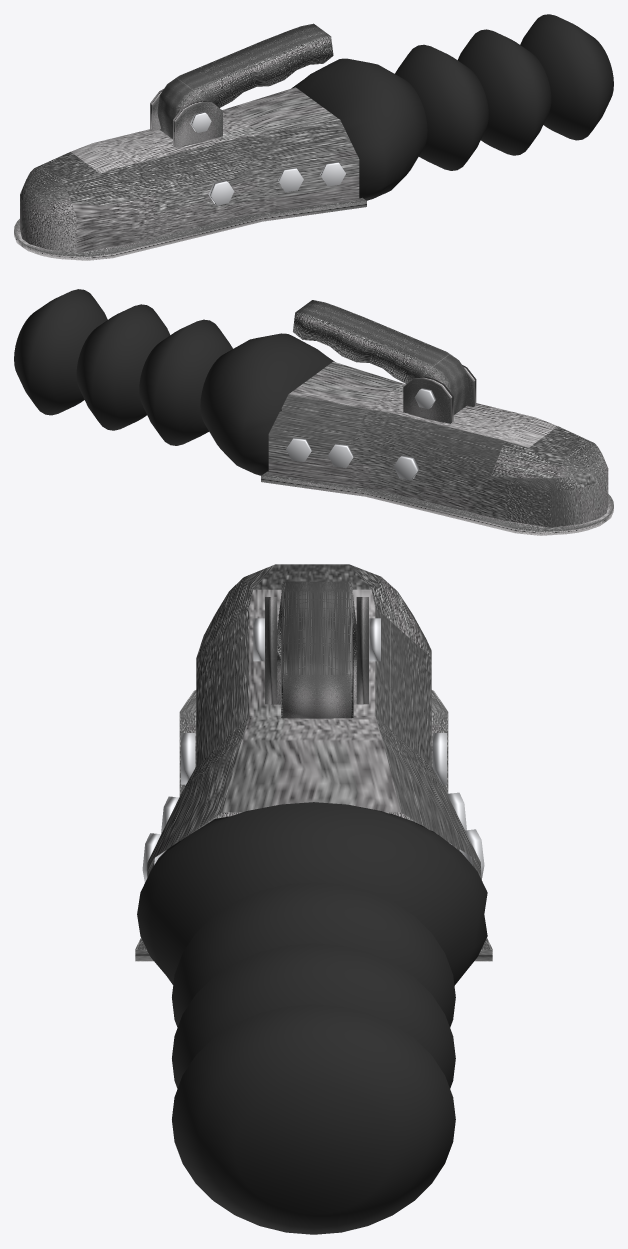
Rendered from coupler3.0.glb.
3 views of the same model, one above another, from view 1: azimuth 30°, elevation 25°; view 2: azimuth 150°, elevation 25°; view 3: azimuth 270°, elevation 25° (orthographic). The views are drawn at different scales.
Parts seen in each view (by area): view 1: Cube.007, Cylinder.013, Cube.003, Cube, Cube.008, Cube.002, Cylinder.002, Cylinder.004, Cylinder.003; view 2: Cube.007, Cylinder.013, Cube.008, Cube.004, Cube.003, Cube.006, Cylinder.006, Cylinder.007, Cylinder.008; view 3: Cylinder.013, Cube.007, Cube.008, Cube.003, Cube.002, Cube.006, Cube, Cube.004.
Part boxes in pixels (box(x1,y1,x2,y2)): Cube.007: box(20, 87, 359, 252); Cylinder.013: box(291, 14, 613, 200); Cube.003: box(166, 30, 333, 146); Cube: box(22, 197, 366, 260); Cube.008: box(157, 23, 321, 137); Cube.002: box(173, 100, 222, 147); Cylinder.002: box(208, 180, 234, 205); Cylinder.004: box(320, 162, 345, 186); Cylinder.003: box(278, 168, 303, 191); Cube.007: box(268, 361, 608, 527); Cylinder.013: box(14, 289, 334, 475); Cube.008: box(293, 306, 459, 422); Cube.004: box(261, 471, 605, 535); Cube.003: box(304, 300, 468, 413); Cube.006: box(403, 376, 453, 423); Cylinder.006: box(393, 455, 419, 480); Cylinder.007: box(328, 443, 353, 468); Cylinder.008: box(286, 438, 311, 461); Cylinder.013: box(137, 802, 487, 1234); Cube.007: box(147, 564, 480, 877); Cube.008: box(317, 581, 363, 718); Cube.003: box(271, 581, 316, 718); Cube.002: box(265, 597, 277, 704); Cube.006: box(356, 597, 368, 704); Cube: box(135, 690, 241, 961); Cube.004: box(386, 690, 492, 961).
Size of the model in its own units: 3.58 by 0.9994 by 0.9702.
Materials: 3 (1 with a texture image).
